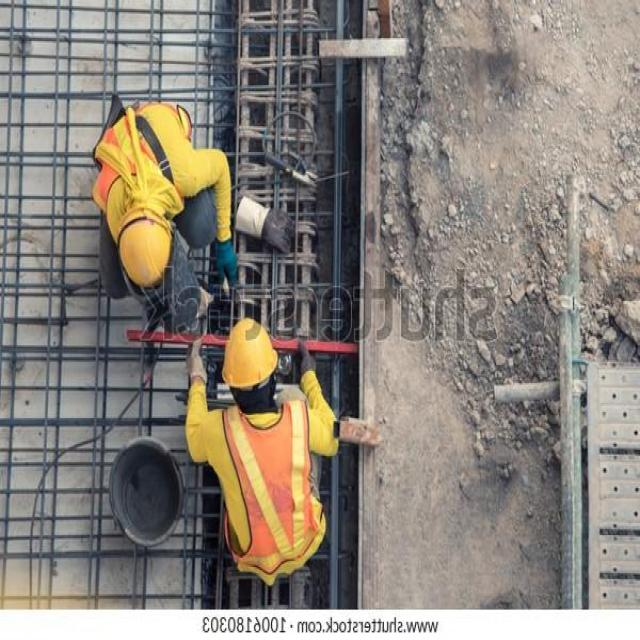Reflective-Jacket: (214, 398, 326, 566), (93, 100, 192, 234)
Safety-Helmet: (117, 202, 175, 292), (218, 312, 280, 395)
